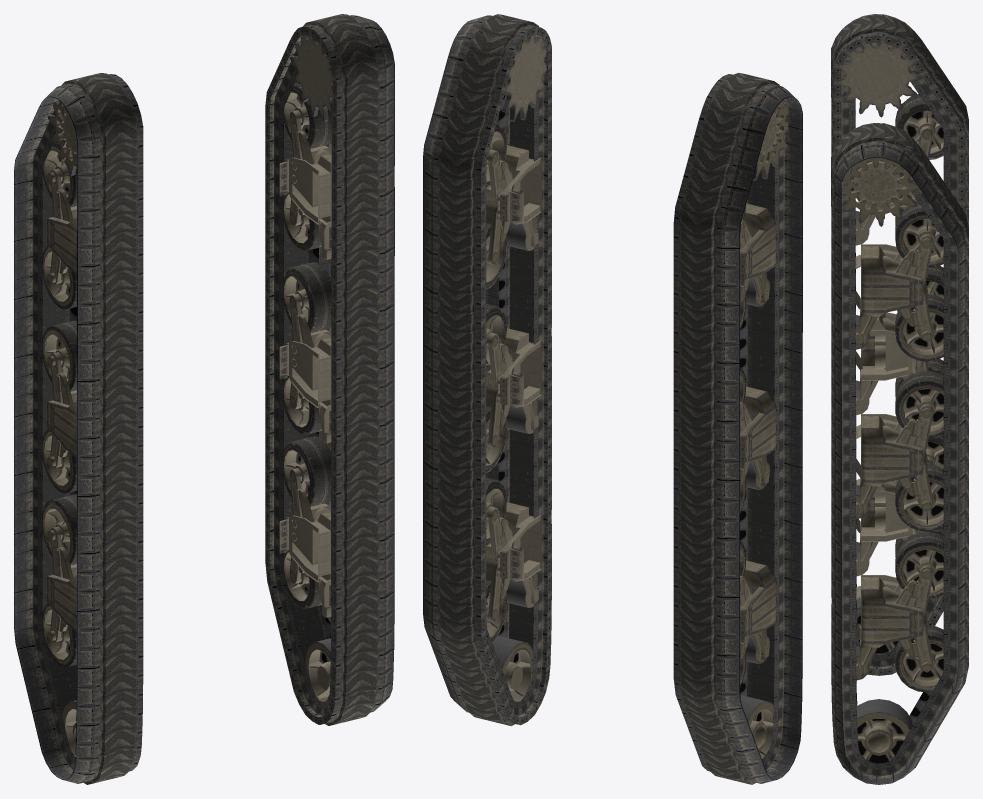
File: Chassis.glb
3 renders of one model, left to right at view 1: azimuth 30°, elevation 25°; view 2: azimuth 150°, elevation 25°; view 3: azimuth 270°, elevation 25°, orthographic. The views are drawn at different scales.
Visible parts, largest first — view 1: set_5_group_0, set_4_group_0, set_1_group_0, set_3_group_0, set_2_group_0, set_0_group_0; view 2: set_5_group_0, set_4_group_0, set_1_group_0, set_3_group_0, set_0_group_0; view 3: set_4_group_0, set_1_group_0, set_3_group_0, set_5_group_0, set_0_group_0, set_2_group_0.
Part boxes in pixels (x1=…): set_5_group_0: x1=14, y1=73, x2=143, y2=784; set_4_group_0: x1=265, y1=14, x2=394, y2=725; set_1_group_0: x1=279, y1=26, x2=384, y2=701; set_3_group_0: x1=42, y1=86, x2=142, y2=756; set_2_group_0: x1=47, y1=168, x2=76, y2=284; set_0_group_0: x1=289, y1=110, x2=331, y2=225; set_5_group_0: x1=673, y1=72, x2=802, y2=784; set_4_group_0: x1=423, y1=14, x2=551, y2=726; set_1_group_0: x1=466, y1=35, x2=546, y2=701; set_3_group_0: x1=708, y1=97, x2=788, y2=758; set_0_group_0: x1=486, y1=149, x2=512, y2=264; set_4_group_0: x1=831, y1=123, x2=968, y2=784; set_1_group_0: x1=833, y1=151, x2=943, y2=763; set_3_group_0: x1=833, y1=42, x2=943, y2=654; set_5_group_0: x1=831, y1=14, x2=968, y2=675; set_0_group_0: x1=894, y1=234, x2=933, y2=341; set_2_group_0: x1=902, y1=126, x2=933, y2=209.
Bounding box in the file's own units: 2.73 × 5.73 × 1.11.
Materials: 6 (6 with a texture image).
